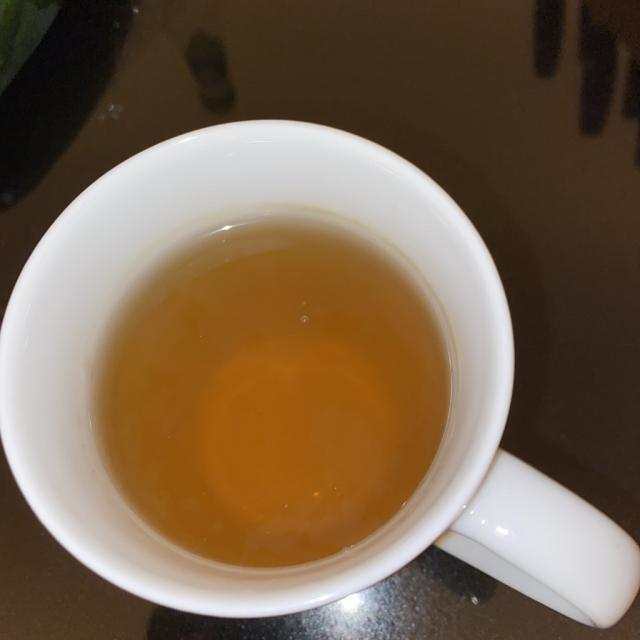tea: (100, 221, 447, 562)
